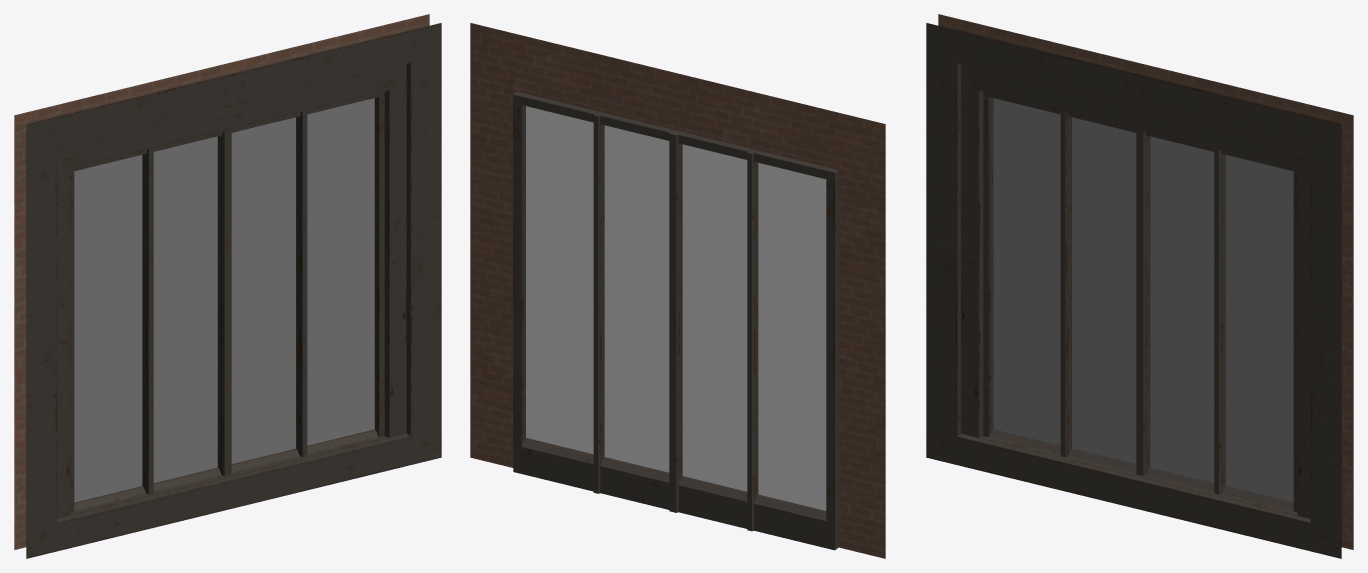
File: Metal_Panel_Window_4.gltf
The picture shows the model from 3 angles, left to right: view 1: azimuth 30°, elevation 25°; view 2: azimuth 150°, elevation 25°; view 3: azimuth 330°, elevation 25°; orthographic projection.
Visible parts, largest first — view 1: Metal_Panel_Window_4; view 2: Metal_Panel_Window_4; view 3: Metal_Panel_Window_4.
Part boxes in pixels (<box>): Metal_Panel_Window_4: <box>14,14,441,558</box>; Metal_Panel_Window_4: <box>470,23,885,558</box>; Metal_Panel_Window_4: <box>926,14,1353,558</box>.
Size of the model in its own units: 4 by 4 by 0.2865.
4 materials, 2 textured.
